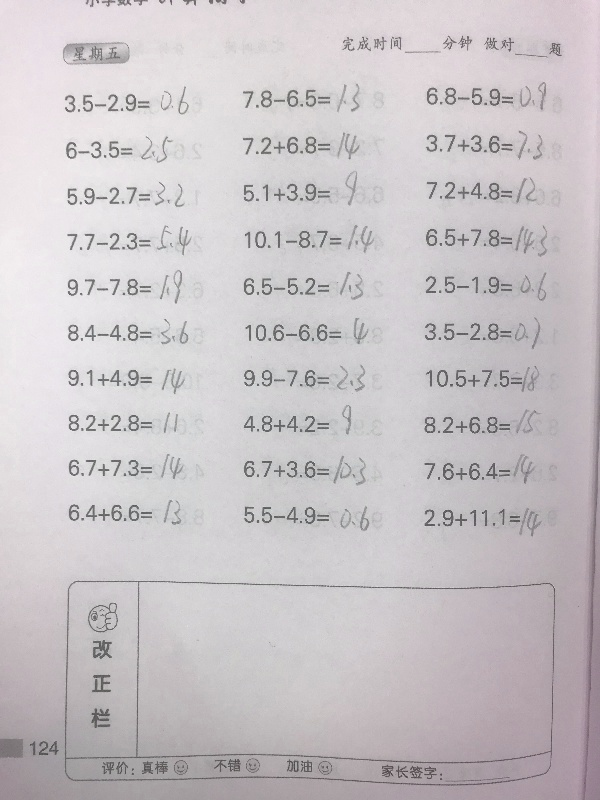equation: (417, 313, 554, 355), (416, 356, 553, 398), (413, 404, 550, 446), (413, 448, 550, 490), (417, 500, 554, 542), (423, 127, 565, 164), (64, 266, 186, 308), (240, 169, 362, 211), (422, 269, 564, 305), (423, 170, 565, 206), (418, 222, 560, 258), (423, 79, 560, 115), (242, 314, 382, 348), (242, 222, 378, 257), (234, 362, 374, 396), (234, 404, 374, 438), (61, 83, 193, 119), (239, 450, 370, 486), (63, 220, 194, 256), (240, 268, 367, 304), (241, 503, 380, 535), (239, 81, 364, 116), (238, 127, 363, 162), (64, 315, 192, 348), (65, 365, 189, 398), (64, 451, 186, 484), (63, 177, 187, 209), (65, 496, 185, 529), (62, 133, 176, 167), (65, 410, 182, 437)
